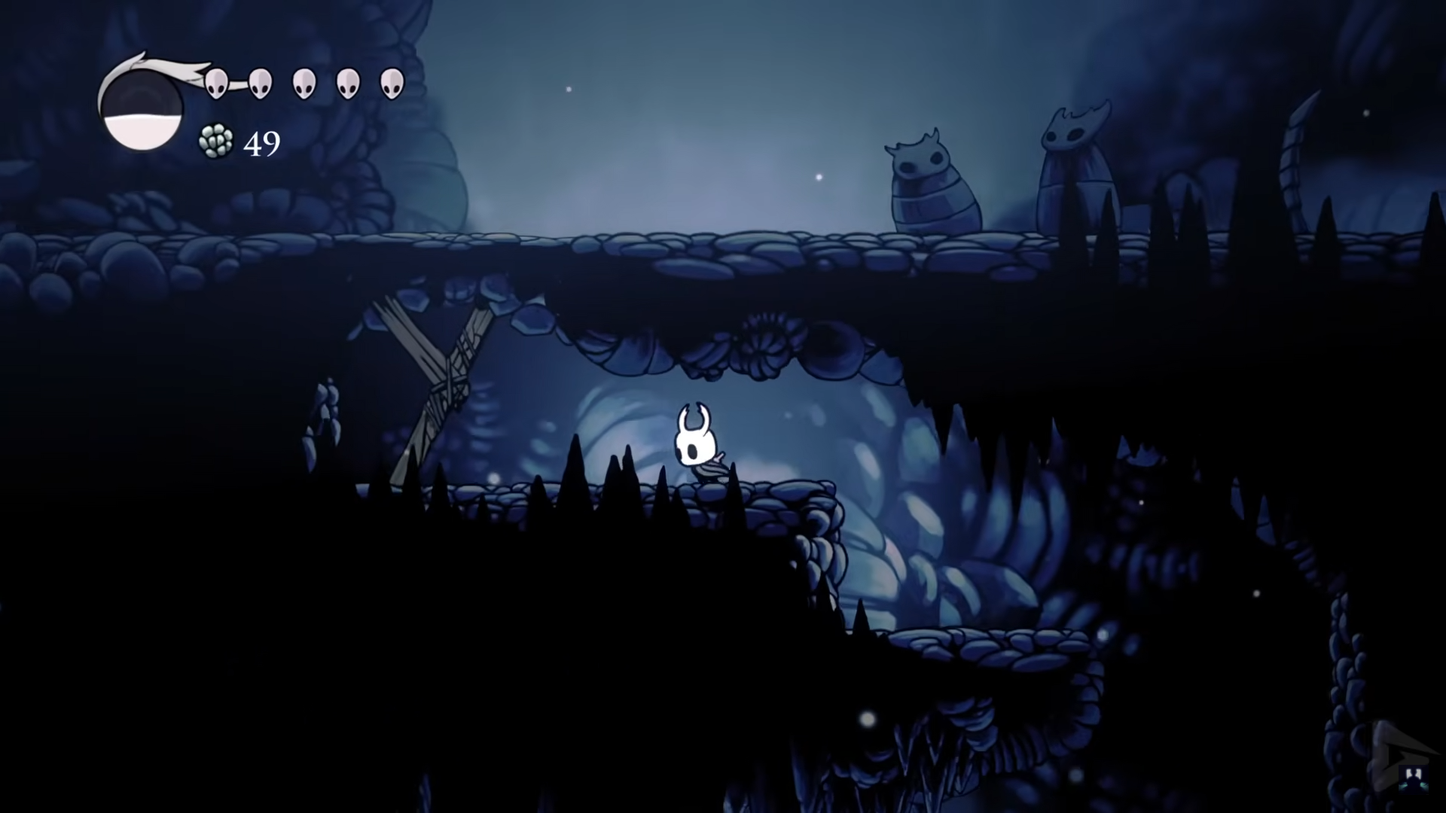HK: (671, 400, 725, 491)
